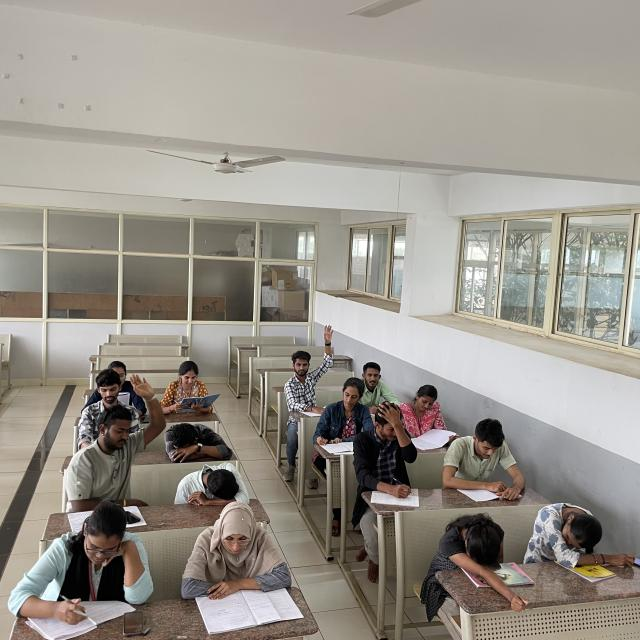Hand Rising: (84, 374, 158, 488), (284, 324, 331, 406)
Reading: (184, 500, 287, 626), (443, 419, 519, 502), (404, 384, 454, 449), (163, 360, 215, 414)
Sleeping: (521, 501, 620, 568), (438, 511, 518, 592), (172, 464, 255, 506), (164, 419, 232, 461)
Writing: (11, 499, 125, 632), (354, 402, 420, 508), (311, 378, 376, 451)
